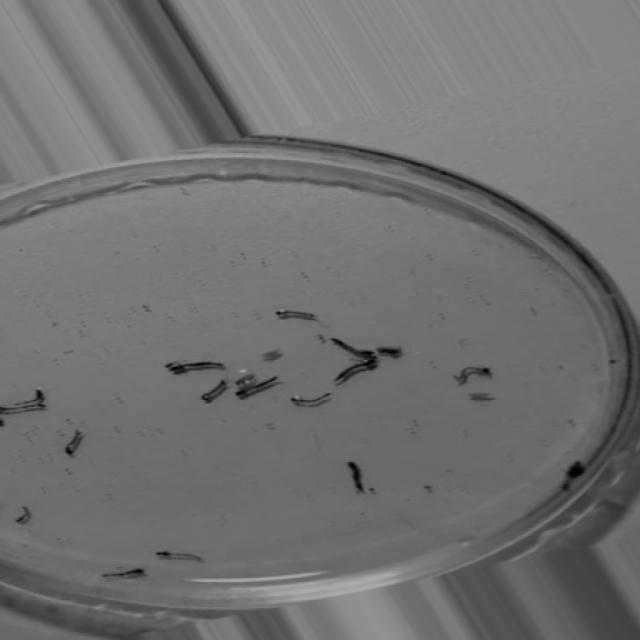larvas: (331, 333, 373, 358), (336, 360, 377, 381), (237, 376, 277, 397), (172, 360, 224, 373), (158, 547, 202, 562), (291, 391, 331, 407), (276, 306, 314, 322), (103, 565, 142, 580), (456, 366, 492, 382), (201, 378, 225, 402), (19, 383, 44, 404), (64, 427, 81, 457), (0, 404, 44, 414), (348, 460, 362, 490), (17, 504, 29, 525)
